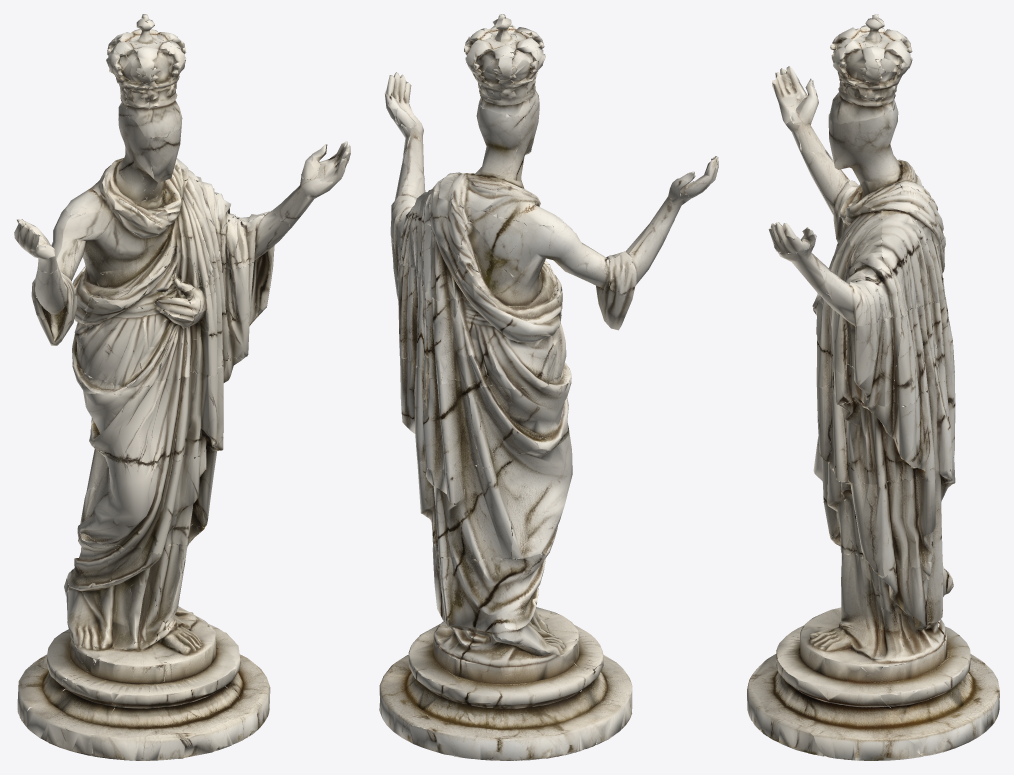
The model's file is garden-weeping-crown.glb.
The picture shows the model from 3 angles, left to right: view 1: azimuth 30°, elevation 25°; view 2: azimuth 150°, elevation 25°; view 3: azimuth 270°, elevation 25°; orthographic projection.
Parts seen in each view (by area): view 1: garden_weeping_crown_Mesh_01; view 2: garden_weeping_crown_Mesh_01; view 3: garden_weeping_crown_Mesh_01.
Part boxes in pixels (box(x1,y1,x2,y2)): garden_weeping_crown_Mesh_01: box(14, 14, 350, 760); garden_weeping_crown_Mesh_01: box(379, 14, 718, 760); garden_weeping_crown_Mesh_01: box(747, 14, 999, 760).
Bounding box in the file's own units: 0.6462 × 1.3 × 0.4289.
Materials: 1 (1 with a texture image).
